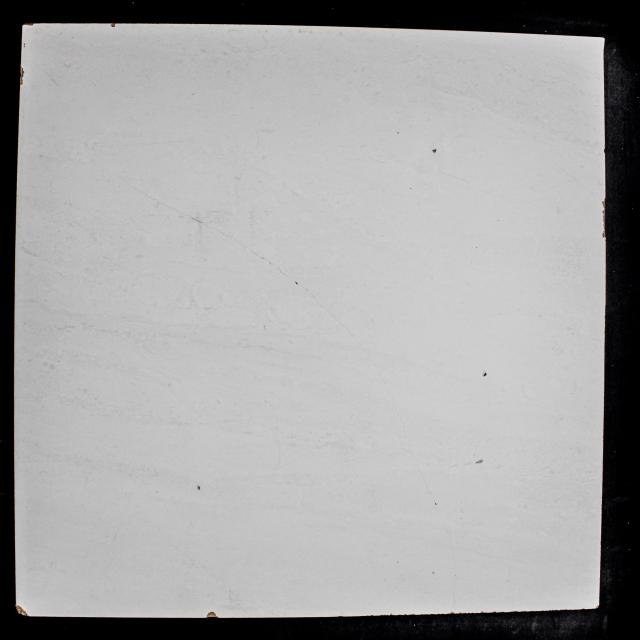edge-chipping: (15, 604, 29, 617), (602, 198, 606, 238), (20, 66, 24, 85), (206, 612, 218, 618), (22, 23, 34, 26), (110, 23, 116, 27), (379, 614, 389, 616), (604, 148, 606, 154), (596, 605, 599, 609), (450, 612, 455, 614), (493, 611, 497, 613), (408, 614, 415, 615), (582, 608, 585, 610), (481, 611, 484, 613), (459, 612, 462, 614), (338, 616, 343, 617), (390, 614, 392, 616), (404, 614, 407, 615)
hole: (475, 459, 483, 464), (432, 148, 437, 152), (483, 372, 487, 377), (198, 485, 200, 490), (23, 45, 25, 48), (24, 43, 26, 45), (432, 572, 434, 574), (398, 132, 399, 134), (410, 188, 411, 189)
line: (379, 371, 434, 501), (300, 286, 377, 369), (205, 225, 294, 281), (113, 172, 202, 224)
